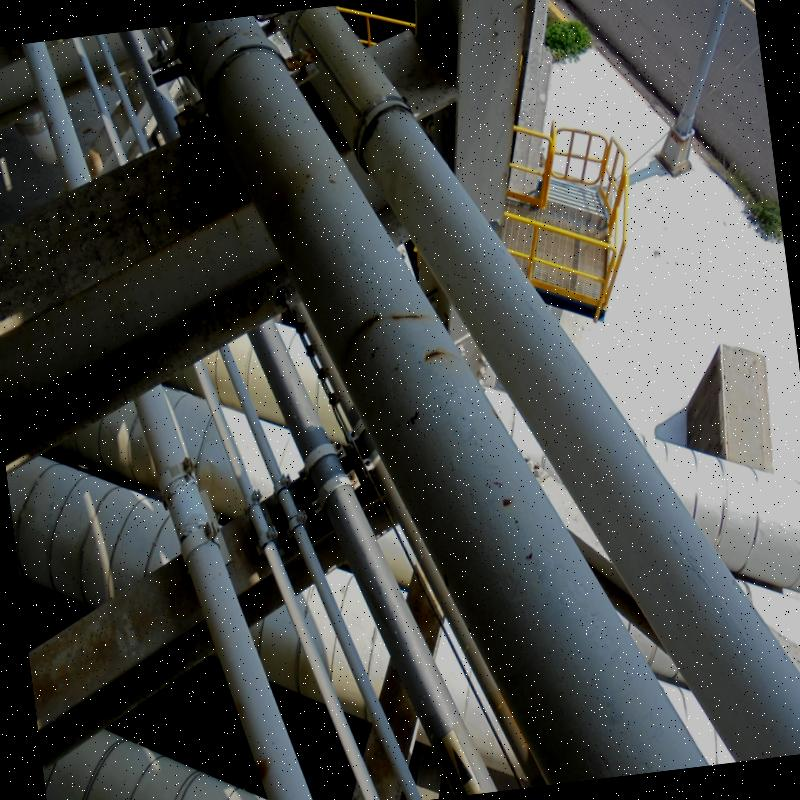corrosion: (343, 306, 436, 335)
